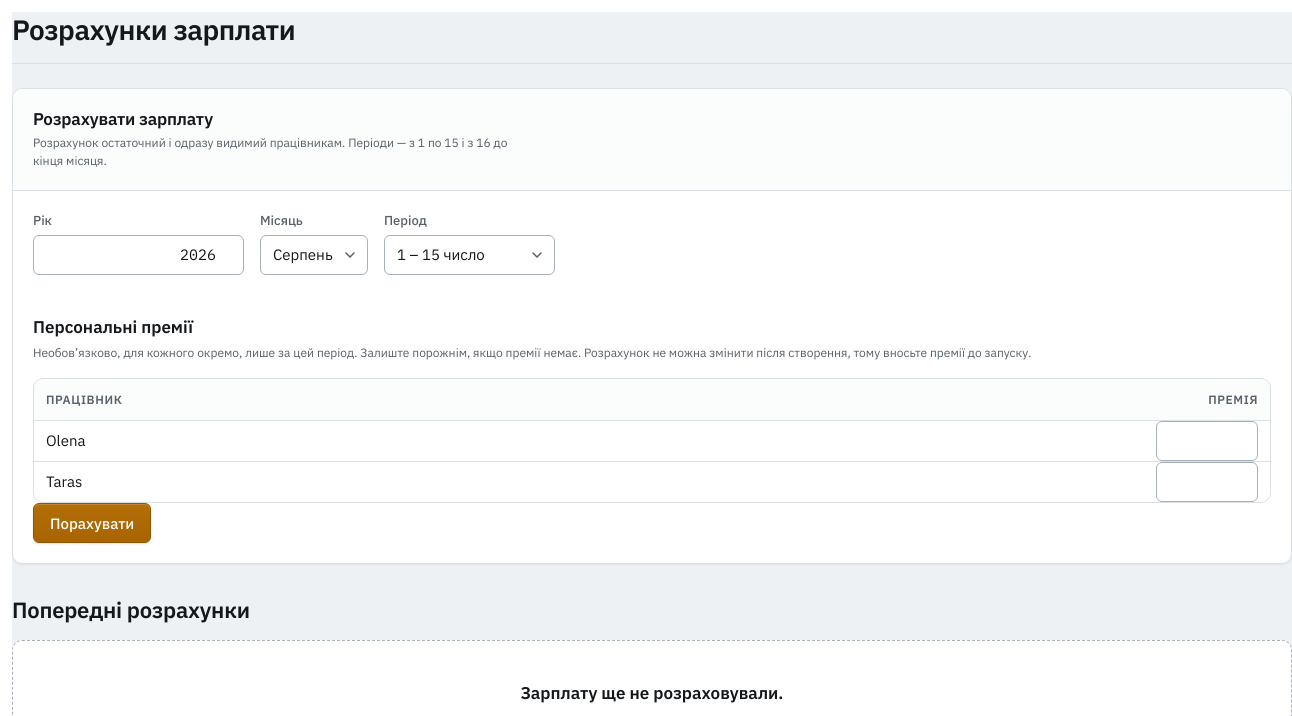
Test case: salary run form — bonuses › refuses to run when the year is cleared, instead of sending 0
This screenshot has width=1292, height=716.
Clear the number field labelled "Рік": (138, 255) left=33, top=235, right=244, bottom=275
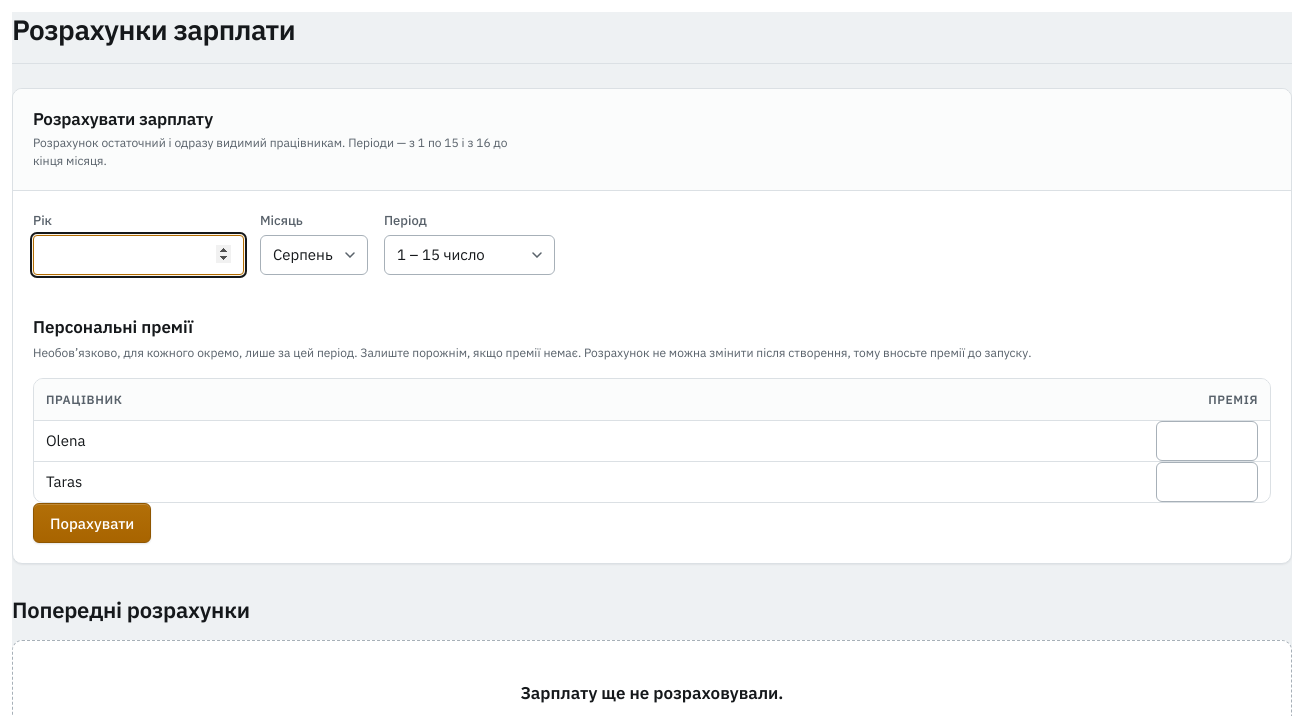
Click the button "Порахувати": (92, 523) left=33, top=503, right=151, bottom=543
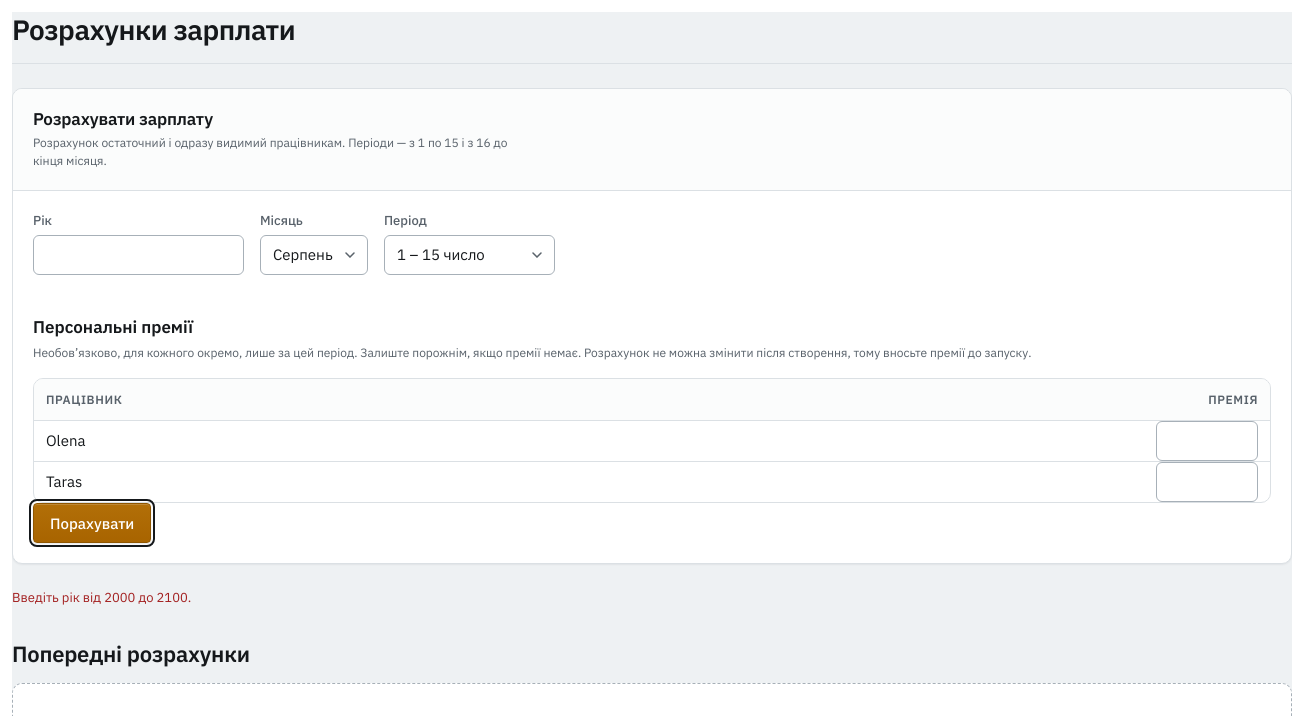
Check: the text "Введіть рік від 2000 до 2100." is shown, box left=12, top=589, right=191, bottom=606
